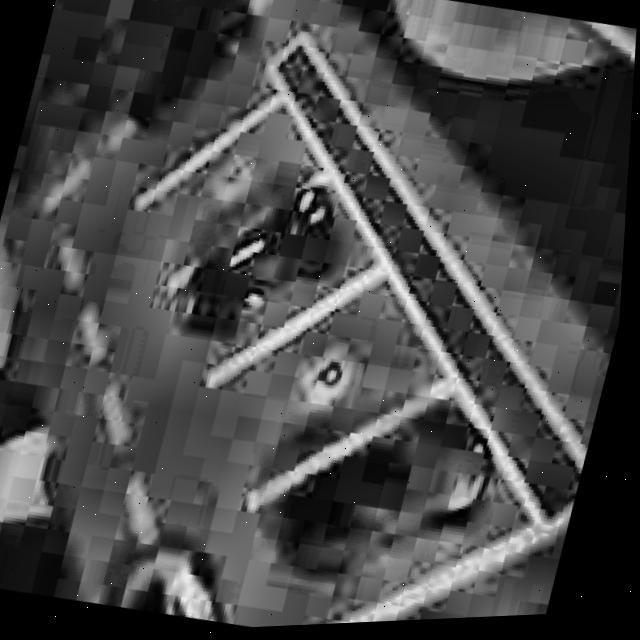car: (253, 381, 522, 613), (133, 152, 375, 398), (104, 526, 263, 632)
